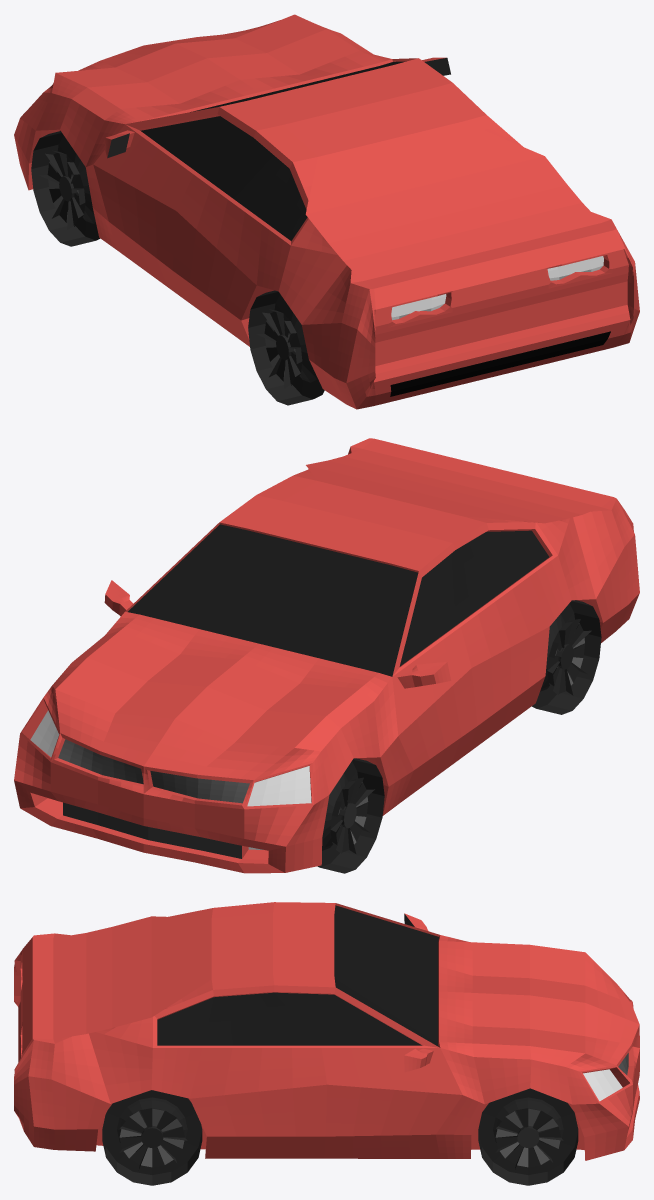
Rendered from Camaro.fbx.
3 views of the same model, one above another, from view 1: azimuth 30°, elevation 25°; view 2: azimuth 150°, elevation 25°; view 3: azimuth 270°, elevation 25° (orthographic). The views are drawn at different scales.
Parts seen in each view (by area): view 1: Cube; view 2: Cube; view 3: Cube.
Part boxes in pixels (bbox=[...]): Cube: bbox=[14, 14, 639, 409]; Cube: bbox=[14, 438, 639, 873]; Cube: bbox=[14, 902, 639, 1185].
Bounding box in the file's own units: 240 × 138 × 436.
